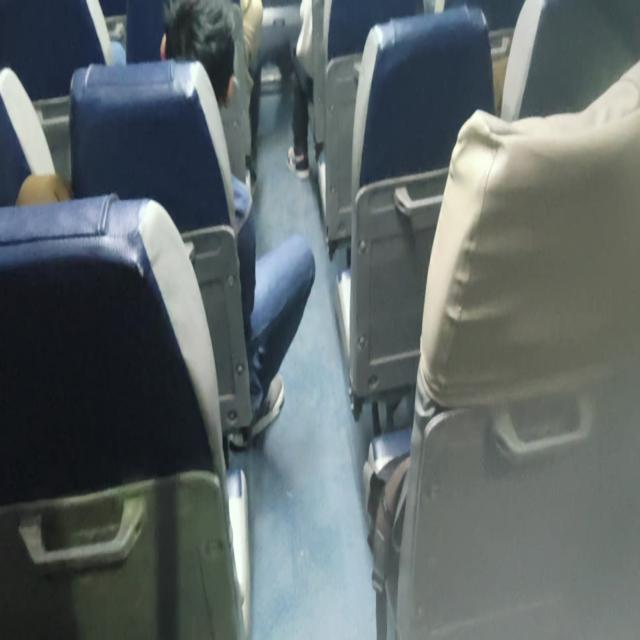person: (160, 0, 232, 106)
